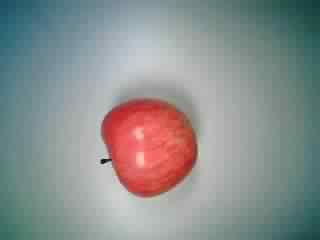apple: (99, 93, 203, 197)
